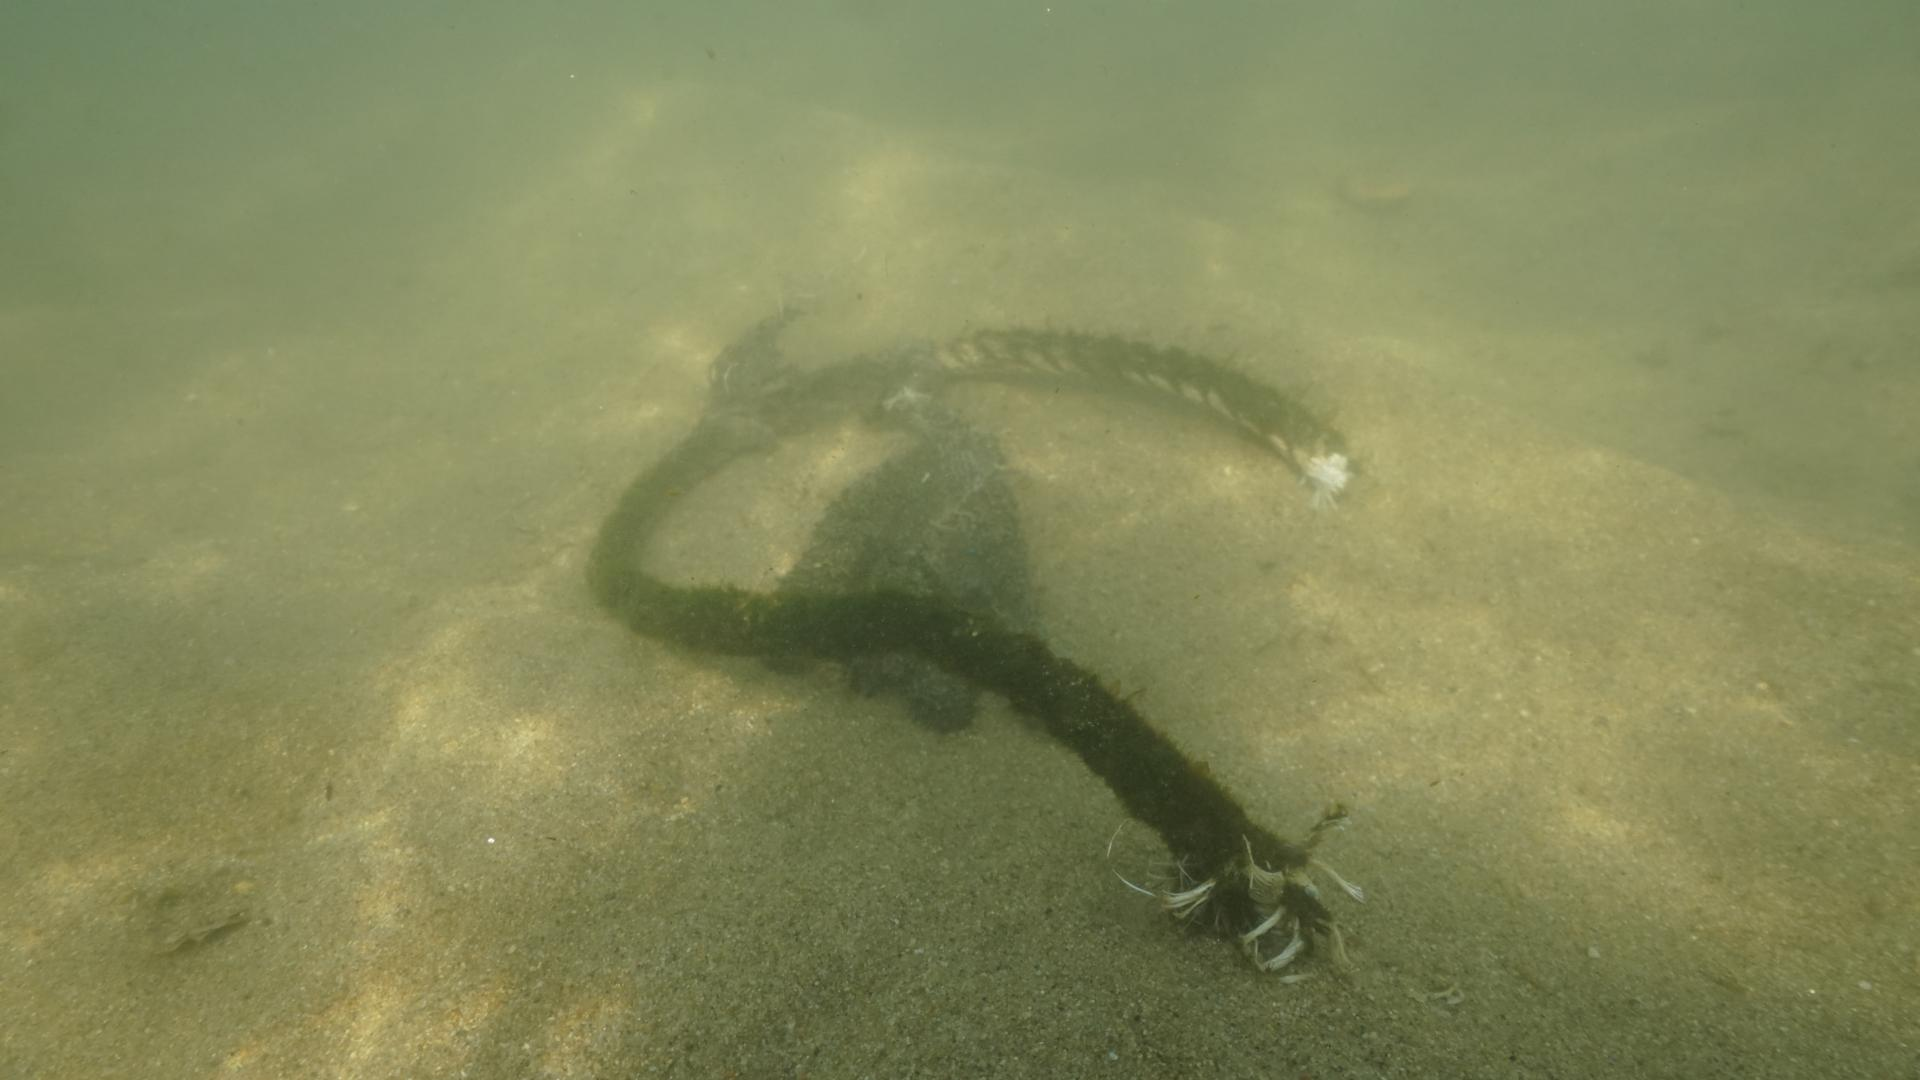rope: (580, 316, 1308, 853)
